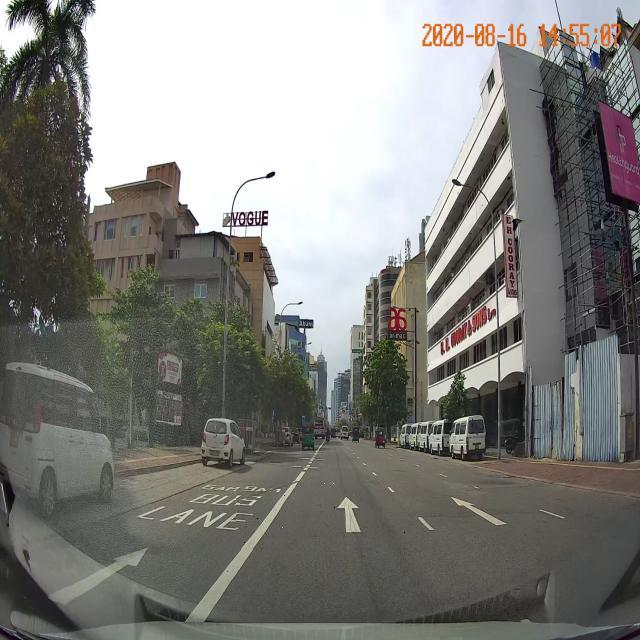forward: (237, 482, 449, 549)
